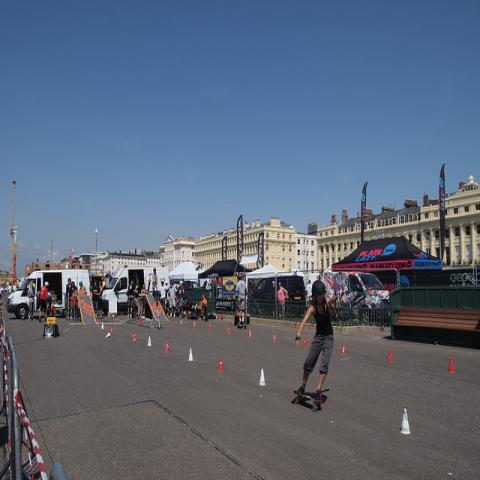car: (321, 272, 390, 322), (251, 277, 306, 301), (184, 281, 202, 288)
truck: (6, 265, 91, 318), (102, 265, 169, 312)
